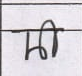i_matra: (43, 19, 60, 58)
